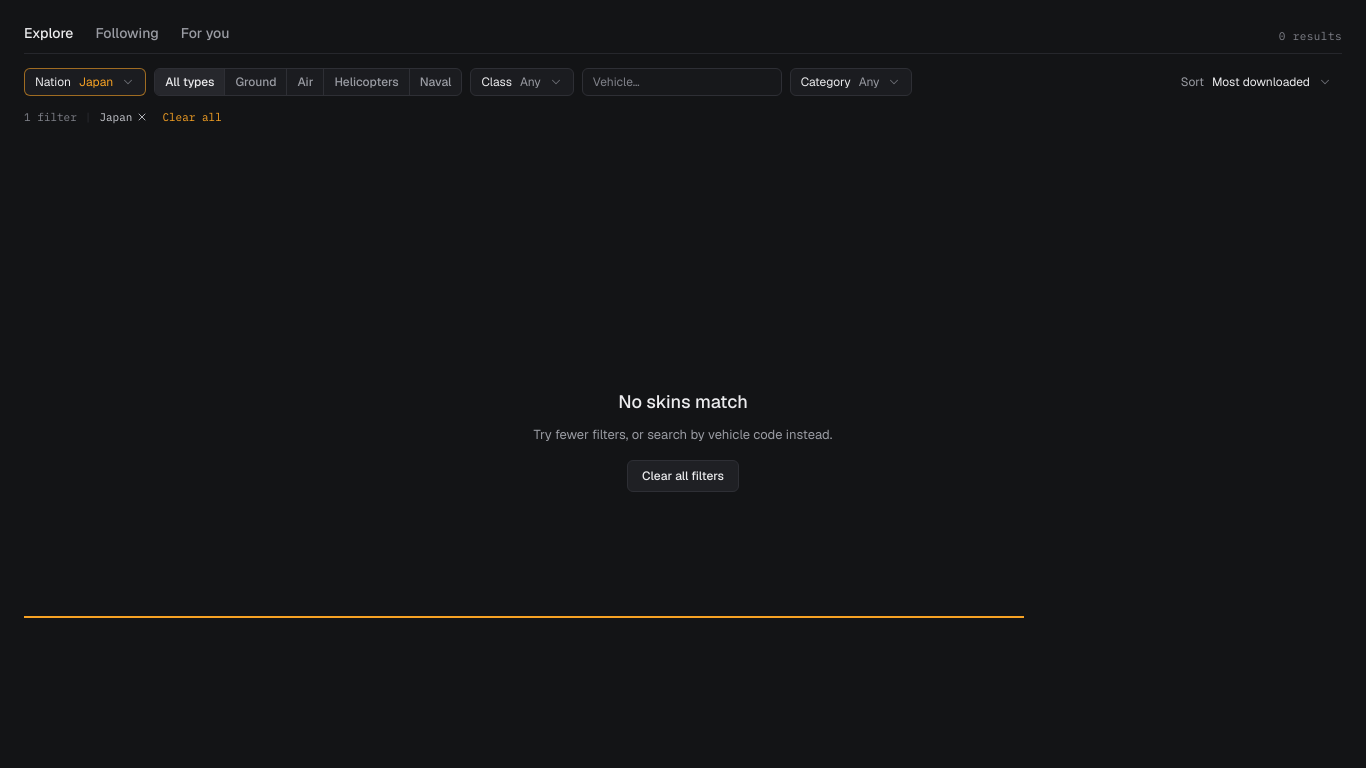
Explore › no results: "No skins match" with Clear all filters
This screenshot has width=1366, height=768.
Check: the heading "No skins match" is shown, box [618,390,748,413]
Check: the text "Try fewer filters, or search by vehicle code instead." is shown, box [534,425,832,444]
Step 1. Click the button "Clear all filters" → (683, 476), box [627,460,739,492]
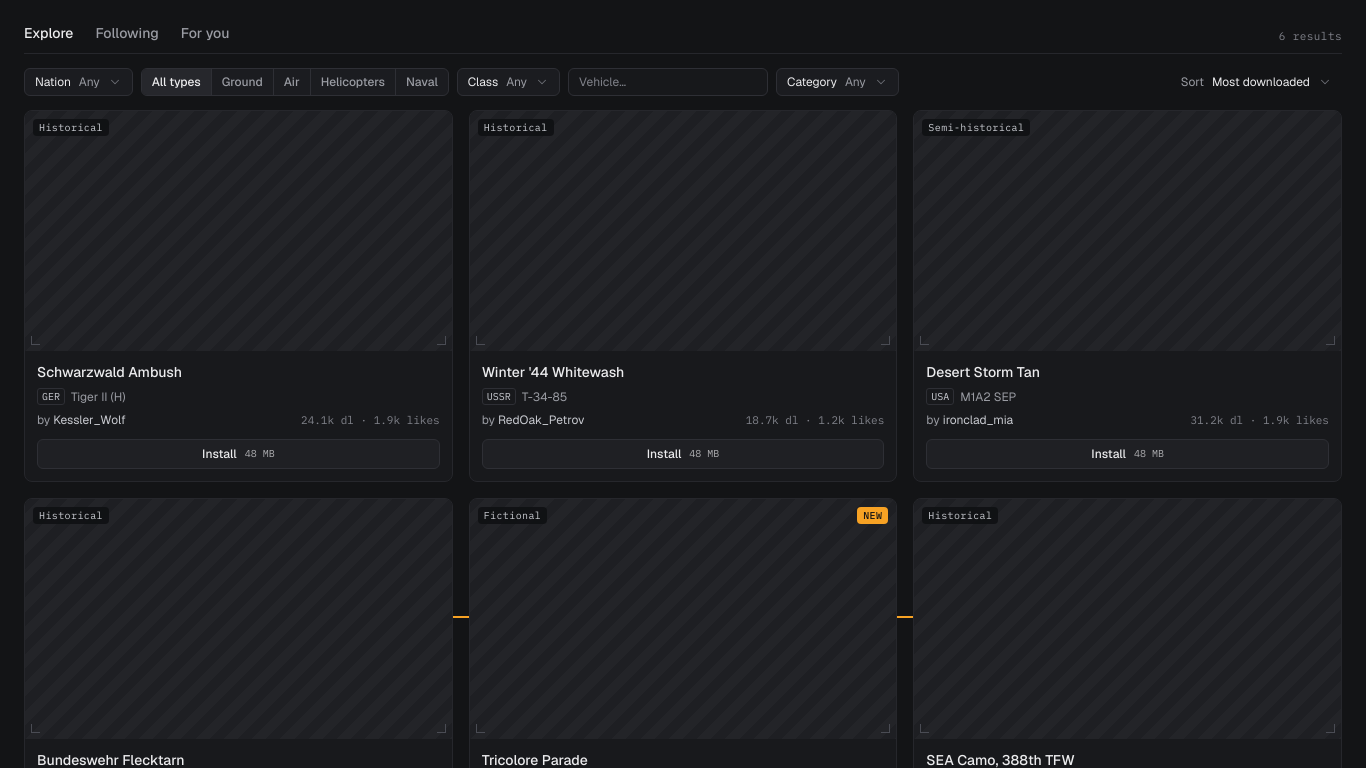
Check: the element "Schwarzwald Ambush" is shown, box [24,110,453,482]
